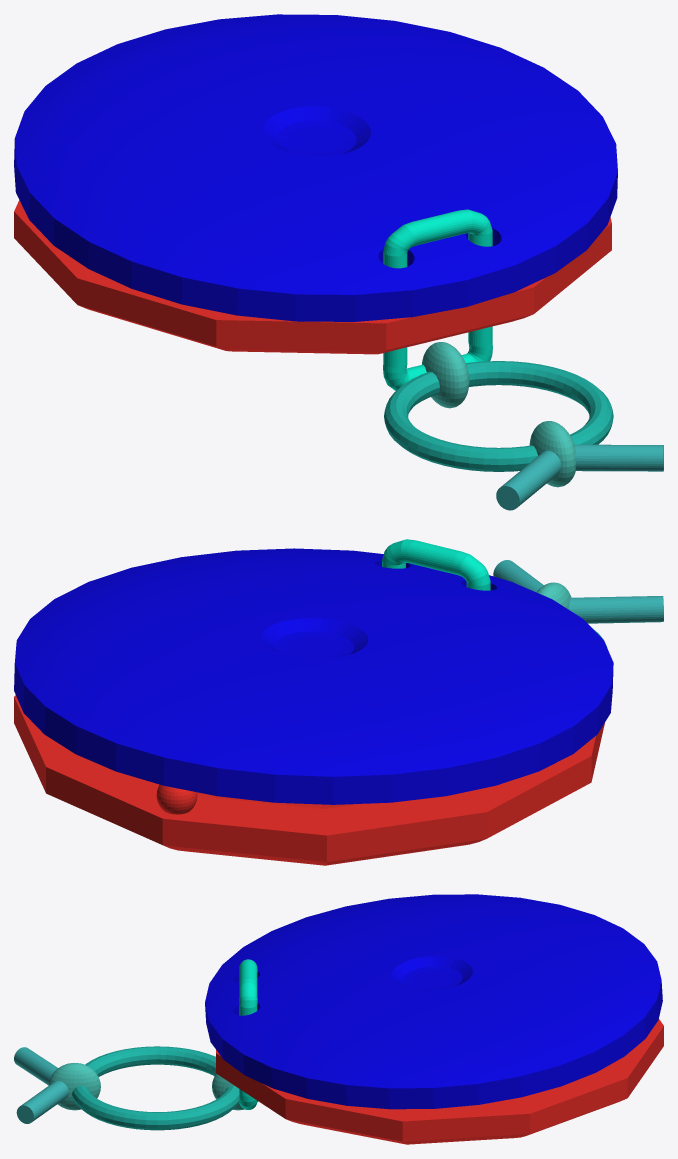
Rendered from Simple_Castanets.fbx.
3 views of the same model, one above another, from view 1: azimuth 30°, elevation 25°; view 2: azimuth 150°, elevation 25°; view 3: azimuth 270°, elevation 25° (orthographic). The views are drawn at different scales.
Visible parts, largest first — view 1: upper_side, under_side, トーラス, 円柱, 円柱.002, 球, 円柱.001, 球.001; view 2: upper_side, under_side, 円柱, 円柱.001, 円柱.002, 球.001; view 3: upper_side, under_side, トーラス, 球.001, 円柱, 円柱.002, 円柱.001.
Boxes of the visible parts, x1=… form: upper_side: x1=14, y1=14, x2=617, y2=321; under_side: x1=14, y1=200, x2=611, y2=354; トーラス: x1=384, y1=361, x2=613, y2=471; 円柱: x1=383, y1=209, x2=492, y2=390; 円柱.002: x1=575, y1=444, x2=663, y2=471; 球: x1=422, y1=342, x2=469, y2=408; 円柱.001: x1=496, y1=450, x2=561, y2=510; 球.001: x1=529, y1=421, x2=575, y2=487; upper_side: x1=14, y1=548, x2=613, y2=804; under_side: x1=14, y1=695, x2=604, y2=865; 円柱: x1=382, y1=539, x2=490, y2=590; 円柱.001: x1=569, y1=596, x2=663, y2=623; 円柱.002: x1=493, y1=560, x2=543, y2=591; 球.001: x1=536, y1=582, x2=571, y2=609; upper_side: x1=205, y1=894, x2=662, y2=1109; under_side: x1=216, y1=1019, x2=663, y2=1144; トーラス: x1=72, y1=1046, x2=239, y2=1130; 球.001: x1=48, y1=1063, x2=100, y2=1110; 円柱: x1=239, y1=959, x2=257, y2=1109; 円柱.002: x1=16, y1=1081, x2=68, y2=1123; 円柱.001: x1=14, y1=1047, x2=57, y2=1085.
Size of the model in its own units: 200 by 67.23 by 284.
